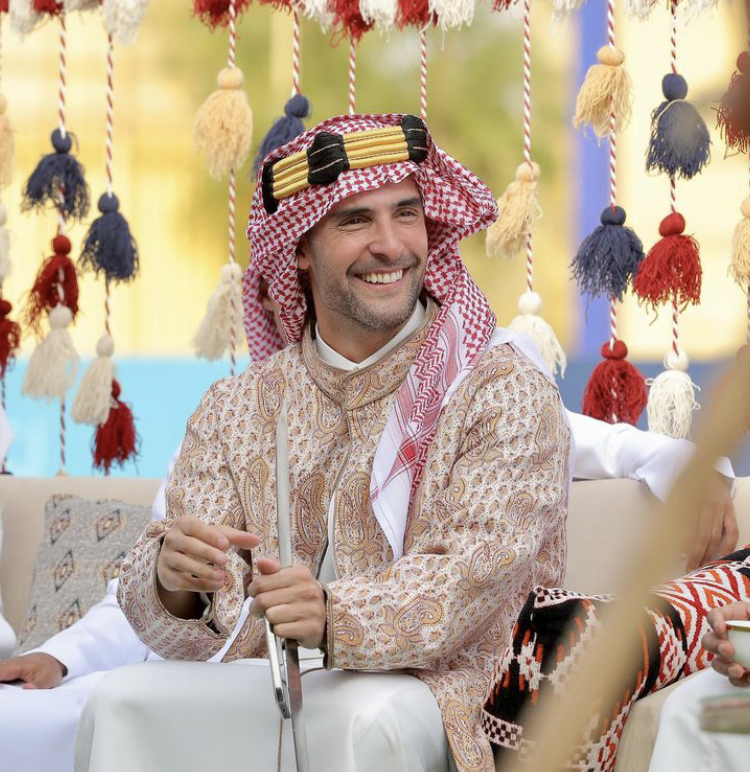Saudi_Founding_Day: (63, 105, 574, 772)
